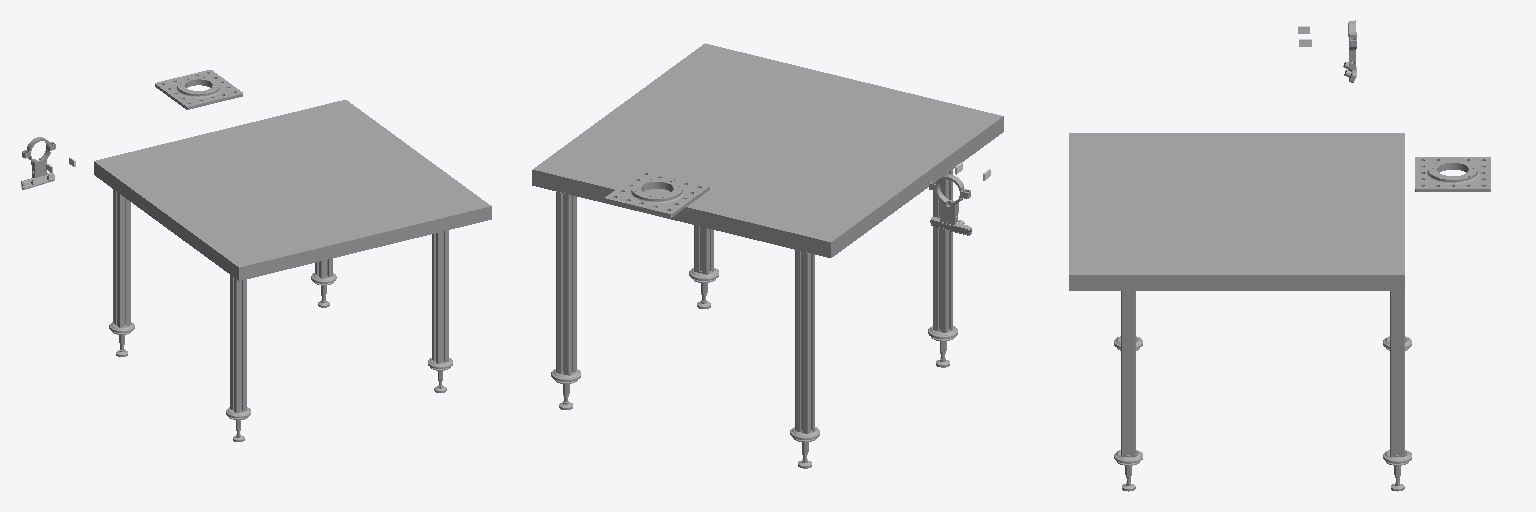
--- Facts derived from the render (not from the file) ---
The picture shows the robot from 3 angles, left to right: view 1: azimuth 30°, elevation 25°; view 2: azimuth 150°, elevation 25°; view 3: azimuth 270°, elevation 25°; orthographic projection.
Robot: ur5e_2f_85 — 37 links, 36 joints (6 revolute, 30 fixed); root link base_link_platform; default pose: every joint at zero.
Visible links, largest first — view 1: table_1, vertical_back_dx_1, vertical_front_dx_1, vertical_front_sx_1, robot_base_1; view 2: table_1, vertical_back_sx_1, vertical_back_dx_1, robot_base_1, vertical_front_dx_1, vertical_front_sx_1; view 3: table_1, robot_base_1, vertical_front_sx_1, vertical_back_sx_1.
Boxes of the visible links, x1,y1,x2,y2 form: table_1: (94, 100, 491, 280); vertical_back_dx_1: (113, 189, 130, 327); vertical_front_dx_1: (230, 275, 246, 412); vertical_front_sx_1: (432, 230, 448, 363); robot_base_1: (155, 70, 242, 109); table_1: (532, 43, 1003, 257); vertical_back_sx_1: (556, 191, 576, 375); vertical_back_dx_1: (795, 250, 814, 433); robot_base_1: (605, 170, 709, 217); vertical_front_dx_1: (933, 170, 952, 332); vertical_front_sx_1: (694, 225, 713, 274); table_1: (1069, 133, 1404, 290); robot_base_1: (1415, 157, 1490, 191); vertical_front_sx_1: (1121, 291, 1135, 456); vertical_back_sx_1: (1390, 291, 1404, 456).
Size in the robot's own frame: 1.38 by 1.25 by 0.9678 metres.
Meshes: 26 distinct files referenced, 14 mesh visuals loaded (14 binary STL); not drawn: 16 (reference not matched to a file when rendering).

The robot description file, URDF, robot "ur5e_2f_85":
<?xml version="1.0" ?>
<!-- =================================================================================== -->
<!-- |    This document was autogenerated by xacro from [local-path]/Desktop/catkin_ws/src/Ur5e-2f-85f/ur5e_2f_85_description/urdf/ur5e_2f_85_zed_mini_camera_table.xacro | -->
<!-- |    EDITING THIS FILE BY HAND IS NOT RECOMMENDED                                 | -->
<!-- =================================================================================== -->
<robot name="ur5e_2f_85">
    <material name="silver">
        <color rgba="0.700 0.700 0.700 1.000" />
    </material>
    <link name="base_link_platform">
        <!-- <inertial>
    <origin xyz="1.7101321326960564e-13 8.679894650498821e-17 0.0863895412173627" rpy="0 0 0"/>
    <mass value="0.9253539827894784"/>
    <inertia ixx="0.001454" iyy="0.001454" izz="0.00057" ixy="-0.0" iyz="-0.0" ixz="-0.0"/>
  </inertial> -->
        <visual>
            <origin rpy="0 0 0" xyz="0 0 0" />
            <geometry>
                <mesh filename="package://ur5e_2f_85_description/meshes/robot_platform/base_link.stl" scale="0.001 0.001 0.001" />
            </geometry>
            <material name="silver" />
        </visual>
        <collision>
            <origin rpy="0 0 0" xyz="0 0 0" />
            <geometry>
                <mesh filename="package://ur5e_2f_85_description/meshes/robot_platform/base_link.stl" scale="0.001 0.001 0.001" />
            </geometry>
        </collision>
        <inertial>
            <mass value="0.1" />
            <origin xyz="0 0 0" rpy="0 0 0" />
            <inertia ixx="0.03" iyy="0.03" izz="0.03" ixy="0.0" ixz="0.0" iyz="0.0" />
        </inertial>
    </link>
    <link name="table_support_dx_front_1">
        <!-- <inertial>
    <origin xyz="-1.7105179057916502e-13 -0.8 0.0863895412173634" rpy="0 0 0"/>
    <mass value="0.9253539827894699"/>
    <inertia ixx="0.001454" iyy="0.001454" izz="0.00057" ixy="0.0" iyz="0.0" ixz="0.0"/>
  </inertial> -->
        <visual>
            <origin rpy="0 0 0" xyz="-0.0 0.8 -0.0" />
            <geometry>
                <mesh filename="package://ur5e_2f_85_description/meshes/robot_platform/table_support_dx_front_1.stl" scale="0.001 0.001 0.001" />
            </geometry>
            <material name="silver" />
        </visual>
        <collision>
            <origin rpy="0 0 0" xyz="-0.0 0.8 -0.0" />
            <geometry>
                <mesh filename="package://ur5e_2f_85_description/meshes/robot_platform/table_support_dx_front_1.stl" scale="0.001 0.001 0.001" />
            </geometry>
        </collision>
        <inertial>
            <mass value="0.1" />
            <origin xyz="0 0 0" rpy="0 0 0" />
            <inertia ixx="0.03" iyy="0.03" izz="0.03" ixy="0.0" ixz="0.0" iyz="0.0" />
        </inertial>
    </link>
    <link name="table_support_sx_front_1">
        <!-- <inertial>
    <origin xyz="0.7999999999998291 -0.7999999999999996 0.08638954121736331" rpy="0 0 0"/>
    <mass value="0.9253539827894874"/>
    <inertia ixx="0.001454" iyy="0.001454" izz="0.00057" ixy="0.0" iyz="0.0" ixz="0.0"/>
  </inertial> -->
        <visual>
            <origin rpy="0 0 0" xyz="-0.8 0.8 -0.0" />
            <geometry>
                <mesh filename="package://ur5e_2f_85_description/meshes/robot_platform/table_support_sx_front_1.stl" scale="0.001 0.001 0.001" />
            </geometry>
            <material name="silver" />
        </visual>
        <collision>
            <origin rpy="0 0 0" xyz="-0.8 0.8 -0.0" />
            <geometry>
                <mesh filename="package://ur5e_2f_85_description/meshes/robot_platform/table_support_sx_front_1.stl" scale="0.001 0.001 0.001" />
            </geometry>
        </collision>
        <inertial>
            <mass value="0.1" />
            <origin xyz="0 0 0" rpy="0 0 0" />
            <inertia ixx="0.03" iyy="0.03" izz="0.03" ixy="0.0" ixz="0.0" iyz="0.0" />
        </inertial>
    </link>
    <link name="table_support_sx_back_1">
        <!-- <inertial>
    <origin xyz="0.8000000000001714 7.715461911554486e-17 0.08638954121736253" rpy="0 0 0"/>
    <mass value="0.925353982789481"/>
    <inertia ixx="0.001454" iyy="0.001454" izz="0.00057" ixy="-0.0" iyz="-0.0" ixz="-0.0"/>
  </inertial> -->
        <visual>
            <origin rpy="0 0 0" xyz="-0.8 -0.0 -0.0" />
            <geometry>
                <mesh filename="package://ur5e_2f_85_description/meshes/robot_platform/table_support_sx_back_1.stl" scale="0.001 0.001 0.001" />
            </geometry>
            <material name="silver" />
        </visual>
        <collision>
            <origin rpy="0 0 0" xyz="-0.8 -0.0 -0.0" />
            <geometry>
                <mesh filename="package://ur5e_2f_85_description/meshes/robot_platform/table_support_sx_back_1.stl" scale="0.001 0.001 0.001" />
            </geometry>
        </collision>
        <inertial>
            <mass value="0.1" />
            <origin xyz="0 0 0" rpy="0 0 0" />
            <inertia ixx="0.03" iyy="0.03" izz="0.03" ixy="0.0" ixz="0.0" iyz="0.0" />
        </inertial>
    </link>
    <link name="vertical_back_dx_1">
        <!-- <inertial>
    <origin xyz="1.0825169898872861e-13 -4.4572956209630415e-15 0.4050000000000011" rpy="0 0 0"/>
    <mass value="3.299632798237497"/>
    <inertia ixx="0.093131" iyy="0.093131" izz="0.001262" ixy="0.0" iyz="-0.0" ixz="0.0"/>
  </inertial> -->
        <visual>
            <origin rpy="0 0 0" xyz="-0.0 -0.0 -0.115" />
            <geometry>
                <mesh filename="package://ur5e_2f_85_description/meshes/robot_platform/vertical_back_dx_1.stl" scale="0.001 0.001 0.001" />
            </geometry>
            <material name="silver" />
        </visual>
        <collision>
            <origin rpy="0 0 0" xyz="-0.0 -0.0 -0.115" />
            <geometry>
                <mesh filename="package://ur5e_2f_85_description/meshes/robot_platform/vertical_back_dx_1.stl" scale="0.001 0.001 0.001" />
            </geometry>
        </collision>
        <inertial>
            <mass value="0.1" />
            <origin xyz="0 0 0" rpy="0 0 0" />
            <inertia ixx="0.03" iyy="0.03" izz="0.03" ixy="0.0" ixz="0.0" iyz="0.0" />
        </inertial>
    </link>
    <link name="vertical_front_dx_1">
        <!-- <inertial>
    <origin xyz="1.3180125783079768e-13 0.7999999999999958 0.4050000000000024" rpy="0 0 0"/>
    <mass value="3.2996327982374267"/>
    <inertia ixx="0.093131" iyy="0.093131" izz="0.001262" ixy="0.0" iyz="0.0" ixz="0.0"/>
  </inertial> -->
        <visual>
            <origin rpy="0 0 0" xyz="-0.0 0.8 -0.115" />
            <geometry>
                <mesh filename="package://ur5e_2f_85_description/meshes/robot_platform/vertical_front_dx_1.stl" scale="0.001 0.001 0.001" />
            </geometry>
            <material name="silver" />
        </visual>
        <collision>
            <origin rpy="0 0 0" xyz="-0.0 0.8 -0.115" />
            <geometry>
                <mesh filename="package://ur5e_2f_85_description/meshes/robot_platform/vertical_front_dx_1.stl" scale="0.001 0.001 0.001" />
            </geometry>
        </collision>
        <inertial>
            <mass value="0.1" />
            <origin xyz="0 0 0" rpy="0 0 0" />
            <inertia ixx="0.03" iyy="0.03" izz="0.03" ixy="0.0" ixz="0.0" iyz="0.0" />
        </inertial>
    </link>
    <link name="vertical_front_sx_1">
        <!-- <inertial>
    <origin xyz="-0.7999999999998921 0.7999999999999957 0.40500000000000136" rpy="0 0 0"/>
    <mass value="3.299632798237435"/>
    <inertia ixx="0.093131" iyy="0.093131" izz="0.001262" ixy="0.0" iyz="0.0" ixz="0.0"/>
  </inertial> -->
        <visual>
            <origin rpy="0 0 0" xyz="-0.8 0.8 -0.115" />
            <geometry>
                <mesh filename="package://ur5e_2f_85_description/meshes/robot_platform/vertical_front_sx_1.stl" scale="0.001 0.001 0.001" />
            </geometry>
            <material name="silver" />
        </visual>
        <collision>
            <origin rpy="0 0 0" xyz="-0.8 0.8 -0.115" />
            <geometry>
                <mesh filename="package://ur5e_2f_85_description/meshes/robot_platform/vertical_front_sx_1.stl" scale="0.001 0.001 0.001" />
            </geometry>
        </collision>
        <inertial>
            <mass value="0.1" />
            <origin xyz="0 0 0" rpy="0 0 0" />
            <inertia ixx="0.03" iyy="0.03" izz="0.03" ixy="0.0" ixz="0.0" iyz="0.0" />
        </inertial>
    </link>
    <link name="vertical_back_sx_1">
        <!-- <inertial>
    <origin xyz="-0.7999999999998684 -4.389678879140158e-15 0.404999999999999" rpy="0 0 0"/>
    <mass value="3.299632798237513"/>
    <inertia ixx="0.093131" iyy="0.093131" izz="0.001262" ixy="0.0" iyz="-0.0" ixz="0.0"/>
  </inertial> -->
        <visual>
            <origin rpy="0 0 0" xyz="-0.8 -0.0 -0.115" />
            <geometry>
                <mesh filename="package://ur5e_2f_85_description/meshes/robot_platform/vertical_back_sx_1.stl" scale="0.001 0.001 0.001" />
            </geometry>
            <material name="silver" />
        </visual>
        <collision>
            <origin rpy="0 0 0" xyz="-0.8 -0.0 -0.115" />
            <geometry>
                <mesh filename="package://ur5e_2f_85_description/meshes/robot_platform/vertical_back_sx_1.stl" scale="0.001 0.001 0.001" />
            </geometry>
        </collision>
        <inertial>
            <mass value="0.1" />
            <origin xyz="0 0 0" rpy="0 0 0" />
            <inertia ixx="0.03" iyy="0.03" izz="0.03" ixy="0.0" ixz="0.0" iyz="0.0" />
        </inertial>
    </link>
    <link name="table_1">
        <!-- <inertial>
    <origin xyz="0.40000000000000385 -0.47699999999999404 0.7112526611221979" rpy="0 0 0"/>
    <mass value="247.23322038149666"/>
    <inertia ixx="20.623205" iyy="20.623205" izz="41.205537" ixy="-0.0" iyz="0.0" ixz="0.0"/>
  </inertial> -->
        <visual>
            <origin rpy="0 0 0" xyz="-0.400 0.477 -0.74" />
            <geometry>
                <mesh filename="package://ur5e_2f_85_description/meshes/robot_platform/table_1.stl" scale="0.001 0.001 0.001" />
            </geometry>
            <material name="silver" />
        </visual>
        <collision>
            <origin rpy="0 0 0" xyz="-0.400 0.477 -0.74" />
            <geometry>
                <mesh filename="package://ur5e_2f_85_description/meshes/robot_platform/table_1.stl" scale="0.001 0.001 0.001" />
            </geometry>
        </collision>
        <inertial>
            <mass value="0.1" />
            <origin xyz="0 0 0" rpy="0 0 0" />
            <inertia ixx="0.03" iyy="0.03" izz="0.03" ixy="0.0" ixz="0.0" iyz="0.0" />
        </inertial>
    </link>
    <link name="robot_base_1">
        <!-- <inertial>
    <origin xyz="0.40003435984289154 0.1650000000000009 0.8252146550277948" rpy="0 0 0"/>
    <mass value="4.5478768461232075"/>
    <inertia ixx="0.019419" iyy="0.019473" izz="0.038619" ixy="0.0" iyz="0.0" ixz="-1e-06"/>
  </inertial> -->
        <visual>
            <origin rpy="0 0 0" xyz="-0.40 -0.135 -0.86" />
            <geometry>
                <mesh filename="package://ur5e_2f_85_description/meshes/robot_platform/robot_base_1.stl" scale="0.001 0.001 0.001" />
            </geometry>
            <material name="silver" />
        </visual>
        <collision>
            <origin rpy="0 0 0" xyz="-0.40 -0.135 -0.86" />
            <geometry>
                <mesh filename="package://ur5e_2f_85_description/meshes/robot_platform/robot_base_1.stl" scale="0.001 0.001 0.001" />
            </geometry>
        </collision>
        <inertial>
            <mass value="0.1" />
            <origin xyz="0 0 0" rpy="0 0 0" />
            <inertia ixx="0.03" iyy="0.03" izz="0.03" ixy="0.0" ixz="0.0" iyz="0.0" />
        </inertial>
    </link>
    <joint name="base_link_front_right_support" type="fixed">
        <origin rpy="0 0 0" xyz="0.0 -0.8 0.0" />
        <parent link="base_link_platform" />
        <child link="table_support_dx_front_1" />
    </joint>
    <joint name="base_link_front_left_support" type="fixed">
        <origin rpy="0 0 0" xyz="0.8 -0.8 0.0" />
        <parent link="base_link_platform" />
        <child link="table_support_sx_front_1" />
    </joint>
    <joint name="base_link_back_left_support" type="fixed">
        <origin rpy="0 0 0" xyz="0.8 0.0 0.0" />
        <parent link="base_link_platform" />
        <child link="table_support_sx_back_1" />
    </joint>
    <joint name="vertical_back_right" type="fixed">
        <origin rpy="0 0 0" xyz="0.0 0.0 0.115" />
        <parent link="base_link_platform" />
        <child link="vertical_back_dx_1" />
    </joint>
    <joint name="vertical_front_right" type="fixed">
        <origin rpy="0 0 0" xyz="0.0 0.0 0.115" />
        <parent link="table_support_dx_front_1" />
        <child link="vertical_front_dx_1" />
    </joint>
    <joint name="vertical_front_left" type="fixed">
        <origin rpy="0 0 0" xyz="0.0 0.0 0.115" />
        <parent link="table_support_sx_front_1" />
        <child link="vertical_front_sx_1" />
    </joint>
    <joint name="vertical_back_left" type="fixed">
        <origin rpy="0 0 0" xyz="0.0 0.0 0.115" />
        <parent link="table_support_sx_back_1" />
        <child link="vertical_back_sx_1" />
    </joint>
    <joint name="table" type="fixed">
        <origin rpy="0 0 0" xyz="0.400 -0.477 0.74" />
        <parent link="base_link_platform" />
        <child link="table_1" />
    </joint>
    <joint name="robot_base" type="fixed">
        <origin rpy="0 0 0" xyz="0.40 0.135 0.86" />
        <parent link="base_link_platform" />
        <child link="robot_base_1" />
    </joint>
    <link name="base_link_camera">
        <!-- <inertial>
    <origin xyz="-1.5476685042974257e-05 -0.02386136732440773 -5.922293150306224e-05" rpy="0 0 0"/>
    <mass value="0.17783575450515327"/>
    <inertia ixx="4.3e-05" iyy="0.000212" izz="0.00024" ixy="0.0" iyz="0.0" ixz="1e-06"/>
  </inertial> -->
        <visual>
            <origin rpy="0 0 0" xyz="0 0 0" />
            <geometry>
                <mesh filename="package://ur5e_2f_85_description/meshes/camera_gripper_attach/base_link.stl" scale="0.001 0.001 0.001" />
            </geometry>
            <material name="silver" />
        </visual>
        <collision>
            <origin rpy="0 0 0" xyz="0 0 0" />
            <geometry>
                <mesh filename="package://ur5e_2f_85_description/meshes/camera_gripper_attach/base_link.stl" scale="0.001 0.001 0.001" />
            </geometry>
        </collision>
        <inertial>
            <mass value="0.1" />
            <origin xyz="0 0 0" rpy="0 0 0" />
            <inertia ixx="0.03" iyy="0.03" izz="0.03" ixy="0.0" ixz="0.0" iyz="0.0" />
        </inertial>
    </link>
    <link name="upper_block_gripper">
        <!-- <inertial>
    <origin xyz="6.873021758872151e-06 0.04004139707933998 0.00015051198864749328" rpy="0 0 0"/>
    <mass value="0.38190262144759973"/>
    <inertia ixx="0.000193" iyy="0.000296" izz="0.000461" ixy="-0.0" iyz="-0.0" ixz="0.0"/>
  </inertial> -->
        <visual>
            <origin rpy="0 0 0" xyz="0.0 -0.0 -0.0" />
            <geometry>
                <mesh filename="package://ur5e_2f_85_description/meshes/camera_gripper_attach/upper_block_gripper.stl" scale="0.001 0.001 0.001" />
            </geometry>
            <material name="silver" />
        </visual>
        <collision>
            <origin rpy="0 0 0" xyz="0.0 -0.0 -0.0" />
            <geometry>
                <mesh filename="package://ur5e_2f_85_description/meshes/camera_gripper_attach/upper_block_gripper.stl" scale="0.001 0.001 0.001" />
            </geometry>
        </collision>
        <inertial>
            <mass value="0.1" />
            <origin xyz="0 0 0" rpy="0 0 0" />
            <inertia ixx="0.03" iyy="0.03" izz="0.03" ixy="0.0" ixz="0.0" iyz="0.0" />
        </inertial>
    </link>
    <link name="zed_mini_camera_attach_back_base_with_external_rack">
        <!-- <inertial>
    <origin xyz="0.0014104497592884707 0.001293530094571449 -0.00023802164952806335" rpy="0 0 0"/>
    <mass value="0.26825120546859876"/>
    <inertia ixx="9.3e-05" iyy="0.000162" izz="0.000231" ixy="-1e-05" iyz="-4e-06" ixz="-0.0"/>
  </inertial> -->
        <visual>
            <origin rpy="0 0 0" xyz="-4e-05 -0.08901 -0.0" />
            <geometry>
                <mesh filename="package://ur5e_2f_85_description/meshes/camera_gripper_attach/zed_mini_camera_attach_back_base_with_external_rack.stl" scale="0.001 0.001 0.001" />
            </geometry>
            <material name="silver" />
        </visual>
        <collision>
            <origin rpy="0 0 0" xyz="-4e-05 -0.08901 -0.0" />
            <geometry>
                <mesh filename="package://ur5e_2f_85_description/meshes/camera_gripper_attach/zed_mini_camera_attach_back_base_with_external_rack.stl" scale="0.001 0.001 0.001" />
            </geometry>
        </collision>
        <inertial>
            <mass value="0.1" />
            <origin xyz="0 0 0" rpy="0 0 0" />
            <inertia ixx="0.03" iyy="0.03" izz="0.03" ixy="0.0" ixz="0.0" iyz="0.0" />
        </inertial>
    </link>
    <link name="zed_camera">
        <!-- <inertial>
    <origin xyz="-0.0014944152543471412 0.01290011562707176 0.0038031028791763346" rpy="0 0 0"/>
    <mass value="0.4361891515825667"/>
    <inertia ixx="4.4e-05" iyy="0.000572" izz="0.000572" ixy="-3e-06" iyz="-0.0" ixz="7e-06"/>
  </inertial> -->
        <visual>
            <origin rpy="0 0 0" xyz="-0.00804 -0.100964 0.000301" />
            <geometry>
                <mesh filename="package://ur5e_2f_85_description/meshes/camera_gripper_attach/zed_camera.stl" scale="0.001 0.001 0.001" />
            </geometry>
            <material name="silver" />
        </visual>
        <collision>
            <origin rpy="0 0 0" xyz="-0.00804 -0.100964 0.000301" />
            <geometry>
                <mesh filename="package://ur5e_2f_85_description/meshes/camera_gripper_attach/zed_camera.stl" scale="0.001 0.001 0.001" />
            </geometry>
        </collision>
        <inertial>
            <mass value="0.1" />
            <origin xyz="0 0 0" rpy="0 0 0" />
            <inertia ixx="0.03" iyy="0.03" izz="0.03" ixy="0.0" ixz="0.0" iyz="0.0" />
        </inertial>
    </link>
    <joint name="base_link_camera_attach" type="fixed">
        <origin rpy="0 0 0" xyz="0.0 0.0 0.0" />
        <parent link="base_link_camera" />
        <child link="upper_block_gripper" />
    </joint>
    <joint name="camera_attach" type="fixed">
        <origin rpy="0 0 0" xyz="4e-05 0.08901 0.0" />
        <parent link="upper_block_gripper" />
        <child link="zed_mini_camera_attach_back_base_with_external_rack" />
    </joint>
    <joint name="camera_base" type="fixed">
        <origin rpy="0 0 0" xyz="0.008 0.011954 -0.000301" />
        <parent link="zed_mini_camera_attach_back_base_with_external_rack" />
        <child link="zed_camera" />
    </joint>
    <!--
    Base UR robot series xacro macro.

    NOTE: this is NOT a URDF. It cannot directly be loaded by consumers
    expecting a flattened '.urdf' file. See the top-level '.xacro' for that
    (but note: that .xacro must still be processed by the xacro command).

    For use in '.launch' files: use one of the 'load_urX.launch' convenience
    launch files.

    This file models the base kinematic chain of a UR robot, which then gets
    parameterised by various configuration files to convert it into a UR3(e),
    UR5(e), UR10(e) or UR16e.

    NOTE: the default kinematic parameters (ie: link lengths, frame locations,
    offets, etc) do not correspond to any particular robot. They are defaults
    only. There WILL be non-zero offsets between the Forward Kinematics results
    in TF (ie: robot_state_publisher) and the values reported by the Teach
    Pendant.

    For accurate (and robot-specific) transforms, the 'kinematics_parameters_file'
    parameter MUST point to a .yaml file containing the appropriate values for
    the targetted robot.

    If using the UniversalRobots/Universal_Robots_ROS_Driver, follow the steps
    described in the readme of that repository to extract the kinematic
    calibration from the controller and generate the required .yaml file.

    Main author of the migration to yaml configs: Ludovic Delval.

    Contributors to previous versions (in no particular order):

     - Felix Messmer
     - Kelsey Hawkins
     - Wim Meeussen
     - Shaun Edwards
     - Nadia Hammoudeh Garcia
     - Dave Hershberger
     - G. vd. Hoorn
     - Philip Long
     - Dave Coleman
     - Miguel Prada
     - Mathias Luedtke
     - Marcel Schnirring
     - Felix von Drigalski
     - Felix Exner
     - Jimmy Da Silva
     - Ajit Krisshna N L
     - Muhammad Asif Rana
  -->
    <!--
    NOTE: the macro defined in this file is NOT part of the public API of this
          package. Users CANNOT rely on this file being available, or stored in
          this location. Nor can they rely on the existence of the macro.
  -->
    <transmission name="shoulder_pan_trans">
        <type>transmission_interface/SimpleTransmission</type>
        <joint name="shoulder_pan_joint">
            <hardwareInterface>hardware_interface/PositionJointInterface</hardwareInterface>
        </joint>
        <actuator name="shoulder_pan_motor">
            <mechanicalReduction>1</mechanicalReduction>
            <hardwareInterface>hardware_interface/EffortJointInterface</hardwareInterface>
        </actuator>
    </transmission>
    <transmission name="shoulder_lift_trans">
        <type>transmission_interface/SimpleTransmission</type>
        <joint name="shoulder_lift_joint">
            <hardwareInterface>hardware_interface/PositionJointInterface</hardwareInterface>
        </joint>
        <actuator name="shoulder_lift_motor">
            <mechanicalReduction>1</mechanicalReduction>
            <hardwareInterface>hardware_interface/EffortJointInterface</hardwareInterface>
        </actuator>
    </transmission>
    <transmission name="elbow_trans">
        <type>transmission_interface/SimpleTransmission</type>
        <joint name="elbow_joint">
            <hardwareInterface>hardware_interface/PositionJointInterface</hardwareInterface>
        </joint>
        <actuator name="elbow_motor">
            <mechanicalReduction>1</mechanicalReduction>
            <hardwareInterface>hardware_interface/EffortJointInterface</hardwareInterface>
        </actuator>
    </transmission>
    <transmission name="wrist_1_trans">
        <type>transmission_interface/SimpleTransmission</type>
        <joint name="wrist_1_joint">
            <hardwareInterface>hardware_interface/PositionJointInterface</hardwareInterface>
        </joint>
        <actuator name="wrist_1_motor">
            <mechanicalReduction>1</mechanicalReduction>
            <hardwareInterface>hardware_interface/EffortJointInterface</hardwareInterface>
        </actuator>
    </transmission>
    <transmission name="wrist_2_trans">
        <type>transmission_interface/SimpleTransmission</type>
        <joint name="wrist_2_joint">
            <hardwareInterface>hardware_interface/PositionJointInterface</hardwareInterface>
        </joint>
        <actuator name="wrist_2_motor">
            <mechanicalReduction>1</mechanicalReduction>
            <hardwareInterface>hardware_interface/EffortJointInterface</hardwareInterface>
        </actuator>
    </transmission>
    <transmission name="wrist_3_trans">
        <type>transmission_interface/SimpleTransmission</type>
        <joint name="wrist_3_joint">
            <hardwareInterface>hardware_interface/PositionJointInterface</hardwareInterface>
        </joint>
        <actuator name="wrist_3_motor">
            <mechanicalReduction>1</mechanicalReduction>
            <hardwareInterface>hardware_interface/EffortJointInterface</hardwareInterface>
        </actuator>
    </transmission>
    <!-- links: main serial chain -->
    <link name="base_link" />
    <link name="base_link_inertia">
        <visual>
            <origin rpy="0 0 3.141592653589793" xyz="0 0 0" />
            <geometry>
                <mesh filename="package://ur_description/meshes/ur5e/visual/base.dae" />
            </geometry>
            <material name="LightGrey">
                <color rgba="0.7 0.7 0.7 1.0" />
            </material>
        </visual>
        <collision>
            <origin rpy="0 0 3.141592653589793" xyz="0 0 0" />
            <geometry>
                <mesh filename="package://ur_description/meshes/ur5e/collision/base.stl" />
            </geometry>
        </collision>
        <inertial>
            <mass value="4.0" />
            <origin rpy="0 0 0" xyz="0 0 0" />
            <inertia ixx="0.00443333156" ixy="0.0" ixz="0.0" iyy="0.00443333156" iyz="0.0" izz="0.0072" />
        </inertial>
    </link>
    <link name="shoulder_link">
        <visual>
            <origin rpy="0 0 3.141592653589793" xyz="0 0 0" />
            <geometry>
                <mesh filename="package://ur_description/meshes/ur5e/visual/shoulder.dae" />
            </geometry>
            <material name="LightGrey">
                <color rgba="0.7 0.7 0.7 1.0" />
            </material>
        </visual>
        <collision>
            <origin rpy="0 0 3.141592653589793" xyz="0 0 0" />
            <geometry>
                <mesh filename="package://ur_description/meshes/ur5e/collision/shoulder.stl" />
            </geometry>
        </collision>
        <inertial>
            <mass value="3.7" />
            <origin rpy="0 0 0" xyz="0 0 0" />
            <inertia ixx="0.010267495893" ixy="0.0" ixz="0.0" iyy="0.010267495893" iyz="0.0" izz="0.00666" />
        </inertial>
    </link>
    <link name="upper_arm_link">
        <visual>
            <origin rpy="1.5707963267948966 0 -1.5707963267948966" xyz="0 0 0.138" />
            <geometry>
                <mesh filename="package://ur_description/meshes/ur5e/visual/upperarm.dae" />
            </geometry>
            <material name="LightGrey">
                <color rgba="0.7 0.7 0.7 1.0" />
            </material>
        </visual>
        <collision>
            <origin rpy="1.5707963267948966 0 -1.5707963267948966" xyz="0 0 0.138" />
            <geometry>
                <mesh filename="package://ur_description/meshes/ur5e/collision/upperarm.stl" />
            </geometry>
        </collision>
        <inertial>
            <mass value="8.393" />
            <origin rpy="0 1.5707963267948966 0" xyz="-0.2125 0.0 0.138" />
            <inertia ixx="0.1338857818623325" ixy="0.0" ixz="0.0" iyy="0.1338857818623325" iyz="0.0" izz="0.0151074" />
        </inertial>
    </link>
    <link name="forearm_link">
        <visual>
            <origin rpy="1.5707963267948966 0 -1.5707963267948966" xyz="0 0 0.007" />
            <geometry>
                <mesh filename="package://ur_description/meshes/ur5e/visual/forearm.dae" />
            </geometry>
            <material name="LightGrey">
                <color rgba="0.7 0.7 0.7 1.0" />
            </material>
        </visual>
        <collision>
            <origin rpy="1.5707963267948966 0 -1.5707963267948966" xyz="0 0 0.007" />
            <geometry>
                <mesh filename="package://ur_description/meshes/ur5e/collision/forearm.stl" />
            </geometry>
        </collision>
        <inertial>
            <mass value="2.275" />
            <origin rpy="0 1.5707963267948966 0" xyz="-0.1961 0.0 0.007" />
            <inertia ixx="0.031209355099586295" ixy="0.0" ixz="0.0" iyy="0.031209355099586295" iyz="0.0" izz="0.004095" />
        </inertial>
    </link>
    <link name="wrist_1_link">
        <visual>
            <!-- TODO: Move this to a parameter -->
            <origin rpy="1.5707963267948966 0 0" xyz="0 0 -0.127" />
            <geometry>
                <mesh filename="package://ur_description/meshes/ur5e/visual/wrist1.dae" />
            </geometry>
            <material name="LightGrey">
                <color rgba="0.7 0.7 0.7 1.0" />
            </material>
        </visual>
        <collision>
            <origin rpy="1.5707963267948966 0 0" xyz="0 0 -0.127" />
            <geometry>
                <mesh filename="package://ur_description/meshes/ur5e/collision/wrist1.stl" />
            </geometry>
        </collision>
        <inertial>
            <mass value="1.219" />
            <origin rpy="0 0 0" xyz="0 0 0" />
            <inertia ixx="0.0025598989760400002" ixy="0.0" ixz="0.0" iyy="0.0025598989760400002" iyz="0.0" izz="0.0021942" />
        </inertial>
    </link>
    <link name="wrist_2_link">
        <visual>
            <origin rpy="0 0 0" xyz="0 0 -0.0997" />
            <geometry>
                <mesh filename="package://ur_description/meshes/ur5e/visual/wrist2.dae" />
            </geometry>
            <material name="LightGrey">
                <color rgba="0.7 0.7 0.7 1.0" />
            </material>
        </visual>
        <collision>
            <origin rpy="0 0 0" xyz="0 0 -0.0997" />
            <geometry>
                <mesh filename="package://ur_description/meshes/ur5e/collision/wrist2.stl" />
            </geometry>
        </collision>
        <inertial>
            <mass value="1.219" />
            <origin rpy="0 0 0" xyz="0 0 0" />
            <inertia ixx="0.0025598989760400002" ixy="0.0" ixz="0.0" iyy="0.0025598989760400002" iyz="0.0" izz="0.0021942" />
        </inertial>
    </link>
    <link name="wrist_3_link">
        <visual>
            <origin rpy="1.5707963267948966 0 0" xyz="0 0 -0.0989" />
            <geometry>
                <mesh filename="package://ur_description/meshes/ur5e/visual/wrist3.dae" />
            </geometry>
            <material name="LightGrey">
                <color rgba="0.7 0.7 0.7 1.0" />
            </material>
        </visual>
        <collision>
            <origin rpy="1.5707963267948966 0 0" xyz="0 0 -0.0989" />
            <geometry>
                <mesh filename="package://ur_description/meshes/ur5e/collision/wrist3.stl" />
            </geometry>
        </collision>
        <inertial>
            <mass value="0.1879" />
            <origin rpy="0 0 0" xyz="0.0 0.0 -0.0229" />
            <inertia ixx="9.890410052167731e-05" ixy="0.0" ixz="0.0" iyy="9.890410052167731e-05" iyz="0.0" izz="0.0001321171875" />
        </inertial>
    </link>
    <!-- joints: main serial chain -->
    <joint name="base_link-base_link_inertia" type="fixed">
        <parent link="base_link" />
        <child link="base_link_inertia" />
        <!-- 'base_link' is REP-103 aligned (so X+ forward), while the internal
           frames of the robot/controller have X+ pointing backwards.
           Use the joint between 'base_link' and 'base_link_inertia' (a dummy
           link/frame) to introduce the necessary rotation over Z (of pi rad).
      -->
        <origin rpy="0 0 3.141592653589793" xyz="0 0 0" />
    </joint>
    <joint name="shoulder_pan_joint" type="revolute">
        <parent link="base_link_inertia" />
        <child link="shoulder_link" />
        <origin rpy="0 0 0" xyz="0 0 0.1625" />
        <axis xyz="0 0 1" />
        <limit effort="150.0" lower="-6.283185307179586" upper="6.283185307179586" velocity="3.141592653589793" />
        <dynamics damping="0" friction="0" />
    </joint>
    <joint name="shoulder_lift_joint" type="revolute">
        <parent link="shoulder_link" />
        <child link="upper_arm_link" />
        <origin rpy="1.570796327 0 0" xyz="0 0 0" />
        <axis xyz="0 0 1" />
        <limit effort="150.0" lower="-6.283185307179586" upper="6.283185307179586" velocity="3.141592653589793" />
        <dynamics damping="0" friction="0" />
    </joint>
    <joint name="elbow_joint" type="revolute">
        <parent link="upper_arm_link" />
        <child link="forearm_link" />
        <origin rpy="0 0 0" xyz="-0.425 0 0" />
        <axis xyz="0 0 1" />
        <limit effort="150.0" lower="-3.141592653589793" upper="3.141592653589793" velocity="3.141592653589793" />
        <dynamics damping="0" friction="0" />
    </joint>
    <joint name="wrist_1_joint" type="revolute">
        <parent link="forearm_link" />
        <child link="wrist_1_link" />
        <origin rpy="0 0 0" xyz="-0.3922 0 0.1333" />
        <axis xyz="0 0 1" />
        <limit effort="28.0" lower="-6.283185307179586" upper="6.283185307179586" velocity="3.141592653589793" />
        <dynamics damping="0" friction="0" />
    </joint>
    <joint name="wrist_2_joint" type="revolute">
        <parent link="wrist_1_link" />
        <child link="wrist_2_link" />
        <origin rpy="1.570796327 0 0" xyz="0 -0.0997 -2.044881182297852e-11" />
        <axis xyz="0 0 1" />
        <limit effort="28.0" lower="-6.283185307179586" upper="6.283185307179586" velocity="3.141592653589793" />
        <dynamics damping="0" friction="0" />
    </joint>
    <joint name="wrist_3_joint" type="revolute">
        <parent link="wrist_2_link" />
        <child link="wrist_3_link" />
        <origin rpy="1.570796326589793 3.141592653589793 3.141592653589793" xyz="0 0.0996 -2.042830148012698e-11" />
        <axis xyz="0 0 1" />
        <limit effort="28.0" lower="-6.283185307179586" upper="6.283185307179586" velocity="3.141592653589793" />
        <dynamics damping="0" friction="0" />
    </joint>
    <!-- ROS-Industrial 'base' frame: base_link to UR 'Base' Coordinates transform -->
    <link name="base" />
    <joint name="base_link-base_fixed_joint" type="fixed">
        <!-- Note the rotation over Z of pi radians: as base_link is REP-103
           aligned (ie: has X+ forward, Y+ left and Z+ up), this is needed
           to correctly align 'base' with the 'Base' coordinate system of
           the UR controller.
      -->
        <origin rpy="0 0 3.141592653589793" xyz="0 0 0" />
        <parent link="base_link" />
        <child link="base" />
    </joint>
    <!-- ROS-Industrial 'flange' frame: attachment point for EEF models -->
    <link name="flange" />
    <joint name="wrist_3-flange" type="fixed">
        <parent link="wrist_3_link" />
        <child link="flange" />
        <origin rpy="0 -1.5707963267948966 -1.5707963267948966" xyz="0 0 0" />
    </joint>
    <!-- ROS-Industrial 'tool0' frame: all-zeros tool frame -->
    <link name="tool0" />
    <joint name="flange-tool0" type="fixed">
        <!-- default toolframe: X+ left, Y+ up, Z+ front -->
        <origin rpy="1.5707963267948966 0 1.5707963267948966" xyz="0 0 0" />
        <parent link="flange" />
        <child link="tool0" />
    </joint>
    <link name="robotiq_arg2f_base_link">
        <inertial>
            <origin rpy="0 0 0" xyz="8.625E-08 -4.6583E-06 0.03145" />
            <mass value="0.22652" />
            <inertia ixx="0.00020005" ixy="-4.2442E-10" ixz="-2.9069E-10" iyy="0.00017832" iyz="-3.4402E-08" izz="0.00013478" />
        </inertial>
        <visual>
            <origin rpy="0 0 0" xyz="0 0 0" />
            <geometry>
                <mesh filename="package://robotiq_2f_85_gripper_visualization/meshes/visual/robotiq_arg2f_85_base_link.dae" scale="0.001 0.001 0.001" />
            </geometry>
            <material name="">
                <color rgba="0.1 0.1 0.1 1" />
            </material>
        </visual>
        <collision>
            <origin rpy="0 0 0" xyz="0 0 0" />
            <geometry>
                <mesh filename="package://robotiq_2f_85_gripper_visualization/meshes/collision/robotiq_arg2f_base_link.stl" />
            </geometry>
        </collision>
    </link>
    <link name="left_outer_knuckle">
        <!--<inertial>
        <origin xyz="-0.000200000000003065 0.0199435877845359 0.0292245259211331" rpy="0 0 0" />
        <mass value="0.00853198276973456" />
        <inertia ixx="2.89328108496468E-06" ixy="-1.57935047237397E-19" ixz="-1.93980378593255E-19" iyy="1.86719750325683E-06" iyz="-1.21858577871576E-06" izz="1.21905238907251E-06" />
        </inertial> -->
        <visual>
            <origin rpy="0 0 0" xyz="0 0 0" />
            <geometry>
                <mesh filename="package://robotiq_2f_85_gripper_visualization/meshes/visual/robotiq_arg2f_85_outer_knuckle.dae" scale="0.001 0.001 0.001" />
            </geometry>
            <material name="">
                <color rgba="0.792156862745098 0.819607843137255 0.933333333333333 1" />
            </material>
        </visual>
        <collision>
            <origin rpy="0 0 0" xyz="0 0 0" />
            <geometry>
                <mesh filename="package://robotiq_2f_85_gripper_visualization/meshes/collision/robotiq_arg2f_85_outer_knuckle.dae" scale="0.001 0.001 0.001" />
            </geometry>
        </collision>
        <inertial>
            <mass value="0.1" />
            <origin xyz="0 0 0" rpy="0 0 0" />
            <inertia ixx="0.03" iyy="0.03" izz="0.03" ixy="0.0" ixz="0.0" iyz="0.0" />
        </inertial>
    </link>
    <link name="left_outer_finger">
        <!--<inertial>
        <origin xyz="0.00030115855001899 0.0373907951953854 -0.0208027427000385" rpy="0 0 0" />
        <mass value="0.022614240507152" />
        <inertia ixx="1.52518312458174E-05" ixy="9.76583423954399E-10" ixz="-5.43838577022588E-10" iyy="6.17694243867776E-06" iyz="6.78636130740228E-06" izz="1.16494917907219E-05" />
        </inertial> -->
        <visual>
            <origin rpy="0 0 0" xyz="0 0 0" />
            <geometry>
                <mesh filename="package://robotiq_2f_85_gripper_visualization/meshes/visual/robotiq_arg2f_85_outer_finger.dae" scale="0.001 0.001 0.001" />
            </geometry>
            <material name="">
                <color rgba="0.1 0.1 0.1 1" />
            </material>
        </visual>
        <collision>
            <origin rpy="0 0 0" xyz="0 0 0" />
            <geometry>
                <mesh filename="package://robotiq_2f_85_gripper_visualization/meshes/collision/robotiq_arg2f_85_outer_finger.dae" scale="0.001 0.001 0.001" />
            </geometry>
        </collision>
        <inertial>
            <mass value="0.1" />
            <origin xyz="0 0 0" rpy="0 0 0" />
            <inertia ixx="0.03" iyy="0.03" izz="0.03" ixy="0.0" ixz="0.0" iyz="0.0" />
        </inertial>
    </link>
    <link name="left_inner_finger">
        <!--<inertial>
        <origin xyz="0.000299999999999317 0.0160078233491243 -0.0136945669206257" rpy="0 0 0" />
        <mass value="0.0104003125914103" />
        <inertia ixx="2.71909453810972E-06" ixy="1.35402465472579E-21" ixz="-7.1817349065269E-22" iyy="7.69100314106116E-07" iyz="6.74715432769696E-07" izz="2.30315190420171E-06" />
        </inertial> -->
        <visual>
            <origin rpy="0 0 0" xyz="0 0 0" />
            <geometry>
                <mesh filename="package://robotiq_2f_85_gripper_visualization/meshes/visual/robotiq_arg2f_85_inner_finger.dae" scale="0.001 0.001 0.001" />
            </geometry>
            <material name="">
                <color rgba="0.1 0.1 0.1 1" />
            </material>
        </visual>
        <collision>
            <origin rpy="0 0 0" xyz="0 0 0" />
            <geometry>
                <mesh filename="package://robotiq_2f_85_gripper_visualization/meshes/collision/robotiq_arg2f_85_inner_finger.dae" scale="0.001 0.001 0.001" />
            </geometry>
        </collision>
        <inertial>
            <mass value="0.1" />
            <origin xyz="0 0 0" rpy="0 0 0" />
            <inertia ixx="0.03" iyy="0.03" izz="0.03" ixy="0.0" ixz="0.0" iyz="0.0" />
        </inertial>
    </link>
    <link name="left_inner_finger_pad">
        <visual>
            <origin rpy="0 0 0" xyz="0 0 0" />
            <geometry>
                <box size="0.022 0.00635 0.0375" />
            </geometry>
            <material name="">
                <color rgba="0.9 0.9 0.9 1" />
            </material>
        </visual>
        <collision>
            <origin rpy="0 0 0" xyz="0 0 0" />
            <geometry>
                <box size="0.022 0.00635 0.0375" />
            </geometry>
            <material name="">
                <color rgba="0.9 0.0 0.0 1" />
            </material>
        </collision>
        <inertial>
            <mass value="0.1" />
            <origin xyz="0 0 0" rpy="0 0 0" />
            <inertia ixx="0.03" iyy="0.03" izz="0.03" ixy="0.0" ixz="0.0" iyz="0.0" />
        </inertial>
    </link>
    <link name="left_inner_knuckle">
        <!--<inertial>
        <origin xyz="0.000123011831763771 0.0507850843201817 0.00103968640075166" rpy="0 0 0" />
       <mass value="0.0271177346495152" />
        <inertia ixx="2.61910379223783E-05" ixy="-2.43616858946494E-07" ixz="-6.37789906117123E-09" iyy="2.8270243746167E-06" iyz="-5.37200748039765E-07" izz="2.83695868220296E-05" />
        </inertial> -->
        <visual>
            <origin rpy="0 0 0" xyz="0 0 0" />
            <geometry>
                <mesh filename="package://robotiq_2f_85_gripper_visualization/meshes/visual/robotiq_arg2f_85_inner_knuckle.dae" scale="0.001 0.001 0.001" />
            </geometry>
            <material name="">
                <color rgba="0.1 0.1 0.1 1" />
            </material>
        </visual>
        <collision>
            <origin rpy="0 0 0" xyz="0 0 0" />
            <geometry>
                <mesh filename="package://robotiq_2f_85_gripper_visualization/meshes/collision/robotiq_arg2f_85_inner_knuckle.dae" scale="0.001 0.001 0.001" />
            </geometry>
        </collision>
        <inertial>
            <mass value="0.1" />
            <origin xyz="0 0 0" rpy="0 0 0" />
            <inertia ixx="0.03" iyy="0.03" izz="0.03" ixy="0.0" ixz="0.0" iyz="0.0" />
        </inertial>
    </link>
    <link name="right_outer_knuckle">
        <!--<inertial>
        <origin xyz="-0.000200000000003065 0.0199435877845359 0.0292245259211331" rpy="0 0 0" />
        <mass value="0.00853198276973456" />
        <inertia ixx="2.89328108496468E-06" ixy="-1.57935047237397E-19" ixz="-1.93980378593255E-19" iyy="1.86719750325683E-06" iyz="-1.21858577871576E-06" izz="1.21905238907251E-06" />
        </inertial> -->
        <visual>
            <origin rpy="0 0 0" xyz="0 0 0" />
            <geometry>
                <mesh filename="package://robotiq_2f_85_gripper_visualization/meshes/visual/robotiq_arg2f_85_outer_knuckle.dae" scale="0.001 0.001 0.001" />
            </geometry>
            <material name="">
                <color rgba="0.792156862745098 0.819607843137255 0.933333333333333 1" />
            </material>
        </visual>
        <collision>
            <origin rpy="0 0 0" xyz="0 0 0" />
            <geometry>
                <mesh filename="package://robotiq_2f_85_gripper_visualization/meshes/collision/robotiq_arg2f_85_outer_knuckle.dae" scale="0.001 0.001 0.001" />
            </geometry>
        </collision>
        <inertial>
            <mass value="0.1" />
            <origin xyz="0 0 0" rpy="0 0 0" />
            <inertia ixx="0.03" iyy="0.03" izz="0.03" ixy="0.0" ixz="0.0" iyz="0.0" />
        </inertial>
    </link>
    <link name="right_outer_finger">
        <!--<inertial>
        <origin xyz="0.00030115855001899 0.0373907951953854 -0.0208027427000385" rpy="0 0 0" />
        <mass value="0.022614240507152" />
        <inertia ixx="1.52518312458174E-05" ixy="9.76583423954399E-10" ixz="-5.43838577022588E-10" iyy="6.17694243867776E-06" iyz="6.78636130740228E-06" izz="1.16494917907219E-05" />
        </inertial> -->
        <visual>
            <origin rpy="0 0 0" xyz="0 0 0" />
            <geometry>
                <mesh filename="package://robotiq_2f_85_gripper_visualization/meshes/visual/robotiq_arg2f_85_outer_finger.dae" scale="0.001 0.001 0.001" />
            </geometry>
            <material name="">
                <color rgba="0.1 0.1 0.1 1" />
            </material>
        </visual>
        <collision>
            <origin rpy="0 0 0" xyz="0 0 0" />
            <geometry>
                <mesh filename="package://robotiq_2f_85_gripper_visualization/meshes/collision/robotiq_arg2f_85_outer_finger.dae" scale="0.001 0.001 0.001" />
            </geometry>
        </collision>
        <inertial>
            <mass value="0.1" />
            <origin xyz="0 0 0" rpy="0 0 0" />
            <inertia ixx="0.03" iyy="0.03" izz="0.03" ixy="0.0" ixz="0.0" iyz="0.0" />
        </inertial>
    </link>
    <link name="right_inner_finger">
        <!--<inertial>
        <origin xyz="0.000299999999999317 0.0160078233491243 -0.0136945669206257" rpy="0 0 0" />
        <mass value="0.0104003125914103" />
        <inertia ixx="2.71909453810972E-06" ixy="1.35402465472579E-21" ixz="-7.1817349065269E-22" iyy="7.69100314106116E-07" iyz="6.74715432769696E-07" izz="2.30315190420171E-06" />
        </inertial> -->
        <visual>
            <origin rpy="0 0 0" xyz="0 0 0" />
            <geometry>
                <mesh filename="package://robotiq_2f_85_gripper_visualization/meshes/visual/robotiq_arg2f_85_inner_finger.dae" scale="0.001 0.001 0.001" />
            </geometry>
            <material name="">
                <color rgba="0.1 0.1 0.1 1" />
            </material>
        </visual>
        <collision>
            <origin rpy="0 0 0" xyz="0 0 0" />
            <geometry>
                <mesh filename="package://robotiq_2f_85_gripper_visualization/meshes/collision/robotiq_arg2f_85_inner_finger.dae" scale="0.001 0.001 0.001" />
            </geometry>
        </collision>
        <inertial>
            <mass value="0.1" />
            <origin xyz="0 0 0" rpy="0 0 0" />
            <inertia ixx="0.03" iyy="0.03" izz="0.03" ixy="0.0" ixz="0.0" iyz="0.0" />
        </inertial>
    </link>
    <link name="right_inner_finger_pad">
        <visual>
            <origin rpy="0 0 0" xyz="0 0 0" />
            <geometry>
                <box size="0.022 0.00635 0.0375" />
            </geometry>
            <material name="">
                <color rgba="0.9 0.9 0.9 1" />
            </material>
        </visual>
        <collision>
            <origin rpy="0 0 0" xyz="0 0 0" />
            <geometry>
                <box size="0.022 0.00635 0.0375" />
            </geometry>
            <material name="">
                <color rgba="0.9 0.0 0.0 1" />
            </material>
        </collision>
        <inertial>
            <mass value="0.1" />
            <origin xyz="0 0 0" rpy="0 0 0" />
            <inertia ixx="0.03" iyy="0.03" izz="0.03" ixy="0.0" ixz="0.0" iyz="0.0" />
        </inertial>
    </link>
    <link name="right_inner_knuckle">
        <!--<inertial>
        <origin xyz="0.000123011831763771 0.0507850843201817 0.00103968640075166" rpy="0 0 0" />
       <mass value="0.0271177346495152" />
        <inertia ixx="2.61910379223783E-05" ixy="-2.43616858946494E-07" ixz="-6.37789906117123E-09" iyy="2.8270243746167E-06" iyz="-5.37200748039765E-07" izz="2.83695868220296E-05" />
        </inertial> -->
        <visual>
            <origin rpy="0 0 0" xyz="0 0 0" />
            <geometry>
                <mesh filename="package://robotiq_2f_85_gripper_visualization/meshes/visual/robotiq_arg2f_85_inner_knuckle.dae" scale="0.001 0.001 0.001" />
            </geometry>
            <material name="">
                <color rgba="0.1 0.1 0.1 1" />
            </material>
        </visual>
        <collision>
            <origin rpy="0 0 0" xyz="0 0 0" />
            <geometry>
                <mesh filename="package://robotiq_2f_85_gripper_visualization/meshes/collision/robotiq_arg2f_85_inner_knuckle.dae" scale="0.001 0.001 0.001" />
            </geometry>
        </collision>
        <inertial>
            <mass value="0.1" />
            <origin xyz="0 0 0" rpy="0 0 0" />
            <inertia ixx="0.03" iyy="0.03" izz="0.03" ixy="0.0" ixz="0.0" iyz="0.0" />
        </inertial>
    </link>
    <joint name="finger_joint" type="fixed">
        <origin rpy="0 0 3.141592653589793" xyz="0 -0.0306011 0.054904" />
        <parent link="robotiq_arg2f_base_link" />
        <child link="left_outer_knuckle" />
        <axis xyz="1 0 0" />
        <limit effort="1000" lower="0" upper="0.8" velocity="2.0" />
    </joint>
    <joint name="left_outer_finger_joint" type="fixed">
        <origin rpy="0 0 0" xyz="0 0.0315 -0.0041" />
        <parent link="left_outer_knuckle" />
        <child link="left_outer_finger" />
        <axis xyz="1 0 0" />
    </joint>
    <joint name="left_inner_knuckle_joint" type="fixed">
        <!-- <origin xyz="0 ${reflect * -0.0127} 0.06142" rpy="${pi / 2 + .725} 0 ${(reflect - 1) * pi / 2}" /> -->
        <origin rpy="0 0 3.141592653589793" xyz="0 -0.0127 0.06142" />
        <parent link="robotiq_arg2f_base_link" />
        <child link="left_inner_knuckle" />
        <axis xyz="1 0 0" />
        <limit effort="1000" lower="0" upper="0.8757" velocity="2.0" />
        <mimic joint="finger_joint" multiplier="1" offset="0" />
    </joint>
    <joint name="left_inner_finger_joint" type="fixed">
        <origin rpy="0 0 0" xyz="0 0.0061 0.0471" />
        <parent link="left_outer_finger" />
        <child link="left_inner_finger" />
        <axis xyz="1 0 0" />
        <limit effort="1000" lower="0" upper="0.8757" velocity="2.0" />
        <mimic joint="finger_joint" multiplier="-1" offset="0" />
    </joint>
    <joint name="left_inner_finger_pad_joint" type="fixed">
        <origin rpy="0 0 0" xyz="0 -0.0220203446692936 0.03242" />
        <parent link="left_inner_finger" />
        <child link="left_inner_finger_pad" />
        <axis xyz="0 0 1" />
    </joint>
    <joint name="right_outer_knuckle_joint" type="fixed">
        <origin rpy="0 0 0" xyz="0 0.0306011 0.054904" />
        <parent link="robotiq_arg2f_base_link" />
        <child link="right_outer_knuckle" />
        <axis xyz="1 0 0" />
        <limit effort="1000" lower="0" upper="0.81" velocity="2.0" />
        <mimic joint="finger_joint" multiplier="1" offset="0" />
    </joint>
    <joint name="right_outer_finger_joint" type="fixed">
        <origin rpy="0 0 0" xyz="0 0.0315 -0.0041" />
        <parent link="right_outer_knuckle" />
        <child link="right_outer_finger" />
        <axis xyz="1 0 0" />
    </joint>
    <joint name="right_inner_knuckle_joint" type="fixed">
        <!-- <origin xyz="0 ${reflect * -0.0127} 0.06142" rpy="${pi / 2 + .725} 0 ${(reflect - 1) * pi / 2}" /> -->
        <origin rpy="0 0 0.0" xyz="0 0.0127 0.06142" />
        <parent link="robotiq_arg2f_base_link" />
        <child link="right_inner_knuckle" />
        <axis xyz="1 0 0" />
        <limit effort="1000" lower="0" upper="0.8757" velocity="2.0" />
        <mimic joint="finger_joint" multiplier="1" offset="0" />
    </joint>
    <joint name="right_inner_finger_joint" type="fixed">
        <origin rpy="0 0 0" xyz="0 0.0061 0.0471" />
        <parent link="right_outer_finger" />
        <child link="right_inner_finger" />
        <axis xyz="1 0 0" />
        <limit effort="1000" lower="0" upper="0.8757" velocity="2.0" />
        <mimic joint="finger_joint" multiplier="-1" offset="0" />
    </joint>
    <joint name="right_inner_finger_pad_joint" type="fixed">
        <origin rpy="0 0 0" xyz="0 -0.0220203446692936 0.03242" />
        <parent link="right_inner_finger" />
        <child link="right_inner_finger_pad" />
        <axis xyz="0 0 1" />
    </joint>
    <transmission name="finger_joint_trans">
        <type>transmission_interface/SimpleTransmission</type>
        <joint name="finger_joint">
            <hardwareInterface>PositionJointInterface</hardwareInterface>
        </joint>
        <actuator name="finger_joint_motor">
            <mechanicalReduction>1</mechanicalReduction>
        </actuator>
    </transmission>
    <link name="tcp_link" />
    <joint name="joint_tool" type="fixed">
        <parent link="tool0" />
        <child link="robotiq_arg2f_base_link" />
        <origin rpy="0 0 1.57" xyz="0 0 0.0169" />
    </joint>
    <joint name="joint_tcp" type="fixed">
        <parent link="tool0" />
        <child link="tcp_link" />
        <origin rpy="0 0 0" xyz="0 0 0.147" />
    </joint>
    <joint name="robot_to_camera_attach" type="fixed">
        <parent link="tool0" />
        <child link="base_link_camera" />
        <origin rpy="0 0 3.18" xyz="0.0 0.0 0.005" />
    </joint>
    <joint name="platform_to_robot" type="fixed">
        <parent link="robot_base_1" />
        <child link="base_link" />
        <origin rpy="0 0 3.18" xyz="0.0 0.0 0.00" />
    </joint>
    <gazebo>
        <plugin name="gazebo_ros_control">
            <robotNamespace>/</robotNamespace>
        </plugin>
    </gazebo>
</robot>
